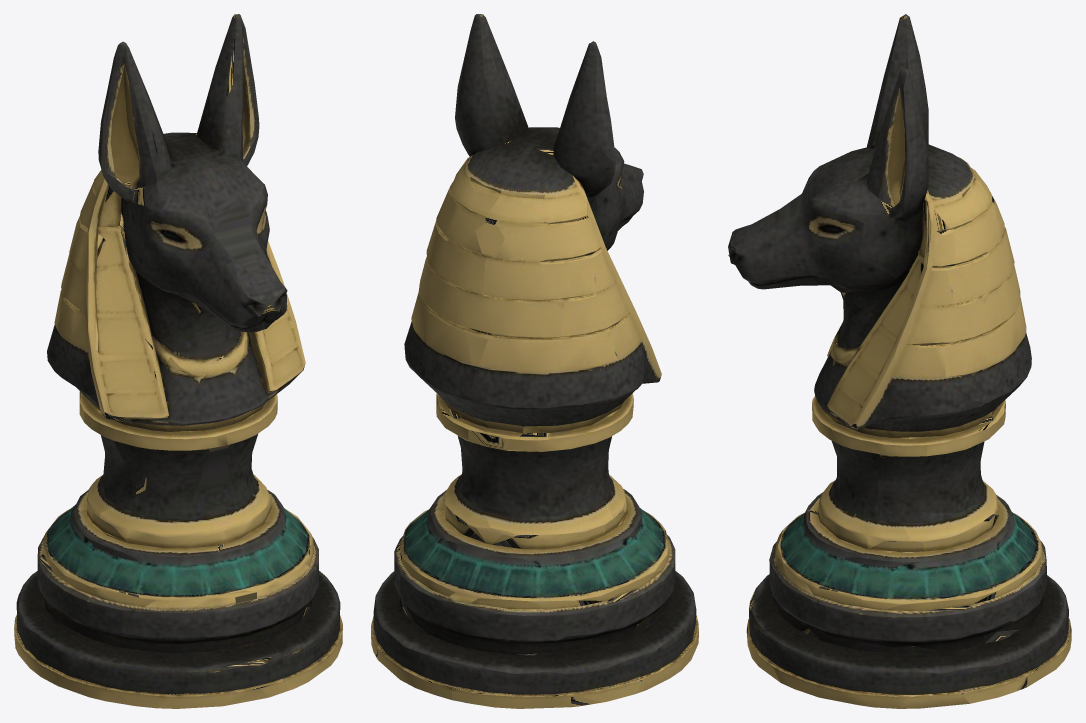
The picture shows the model from 3 angles, left to right: view 1: azimuth 30°, elevation 25°; view 2: azimuth 150°, elevation 25°; view 3: azimuth 270°, elevation 25°; orthographic projection. The views are drawn at different scales.
Visible parts, largest first — view 1: world; view 2: world; view 3: world.
Part boxes in pixels (box(x1,y1,x2,y2)): world: box(14, 14, 342, 708); world: box(371, 14, 698, 708); world: box(728, 14, 1071, 708).
Bounding box in the file's own units: 0.4881 × 1 × 0.5226.
Materials: 1 (1 with a texture image).
